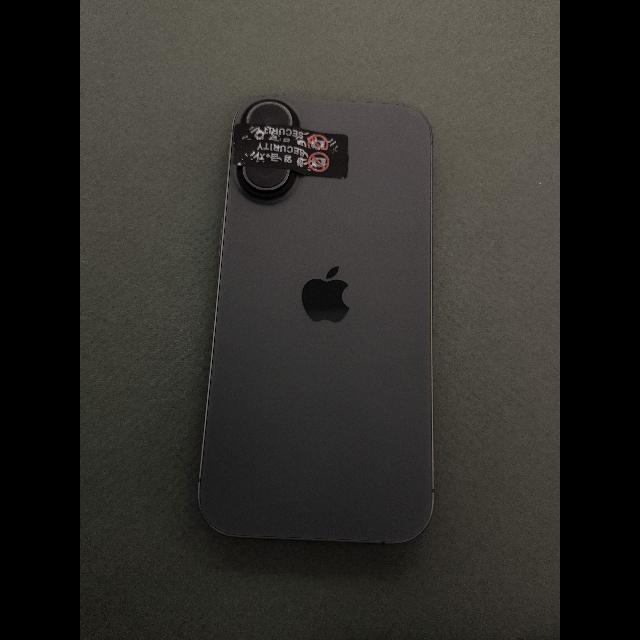lens: (243, 166, 289, 190), (247, 103, 294, 126)
phone: (199, 95, 436, 543)
sticker: (232, 124, 348, 180)
